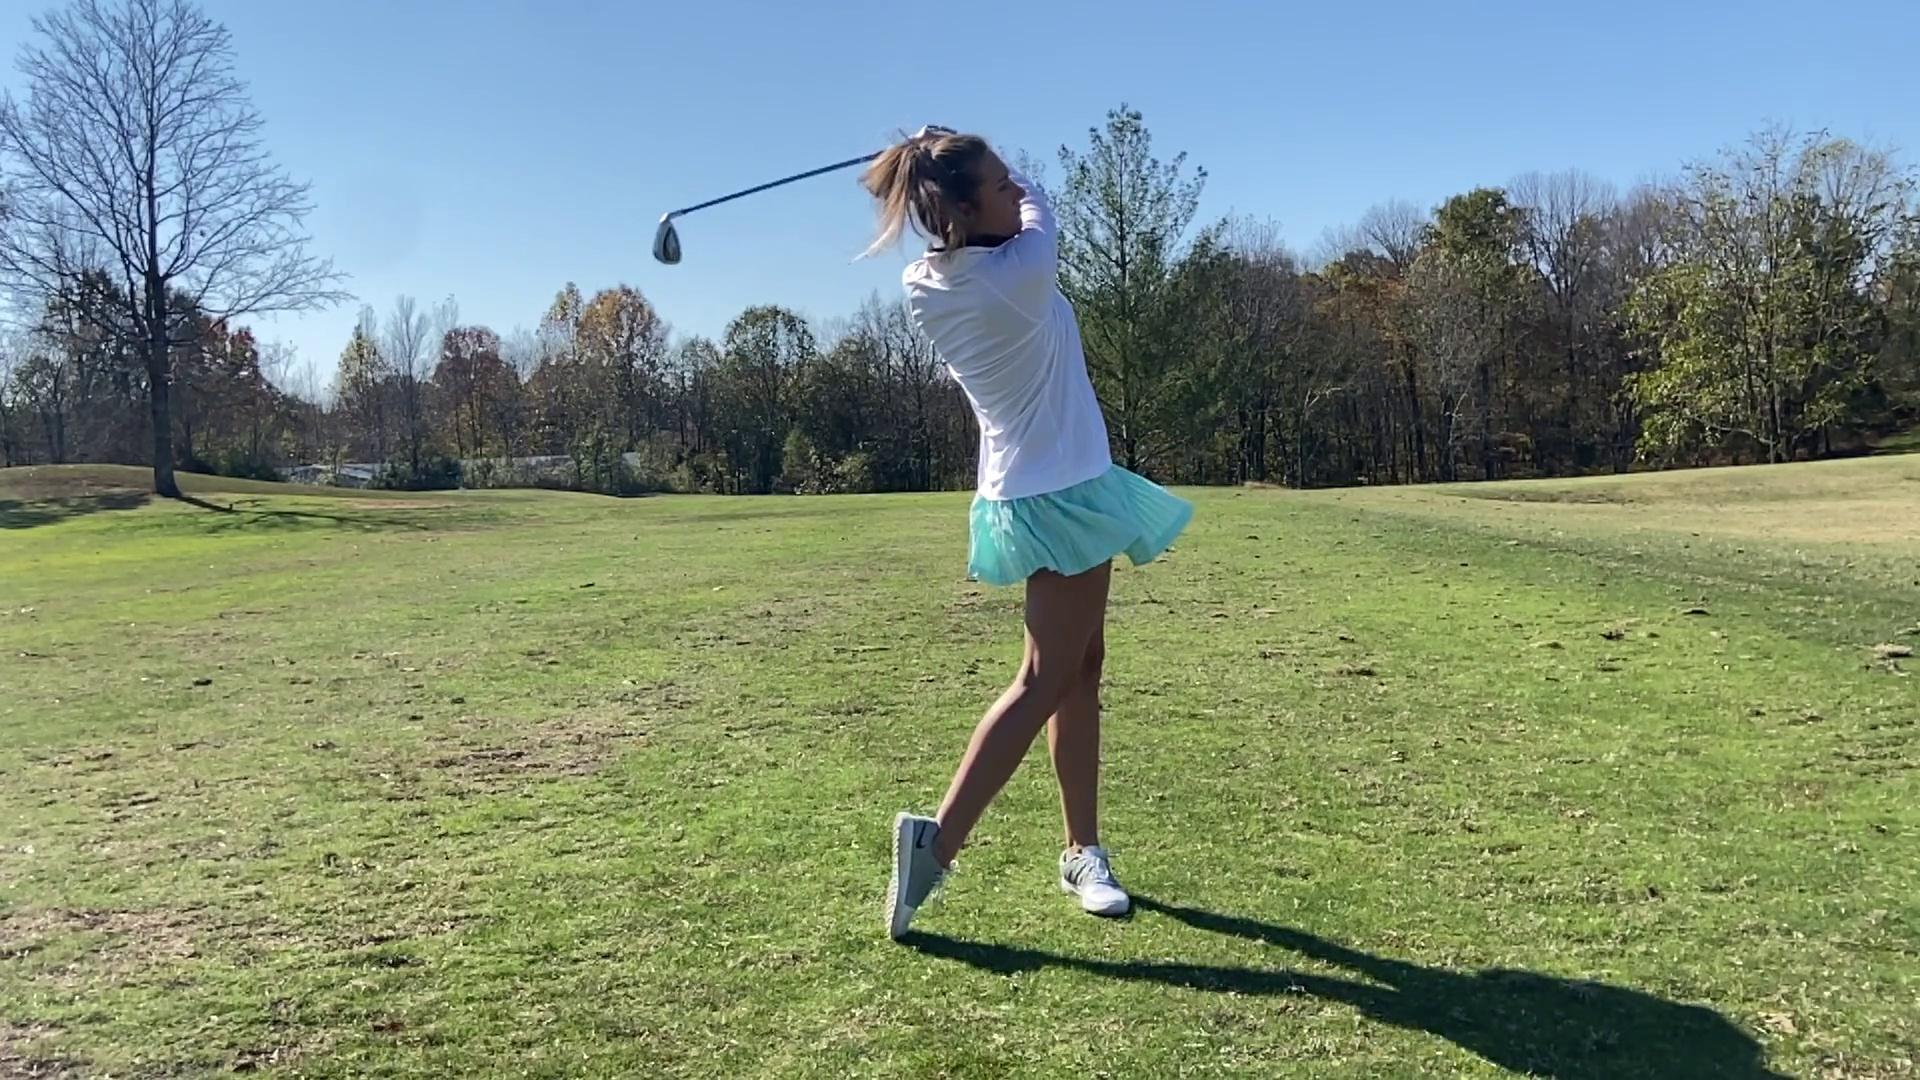ClubHead: (649, 208, 686, 269)
